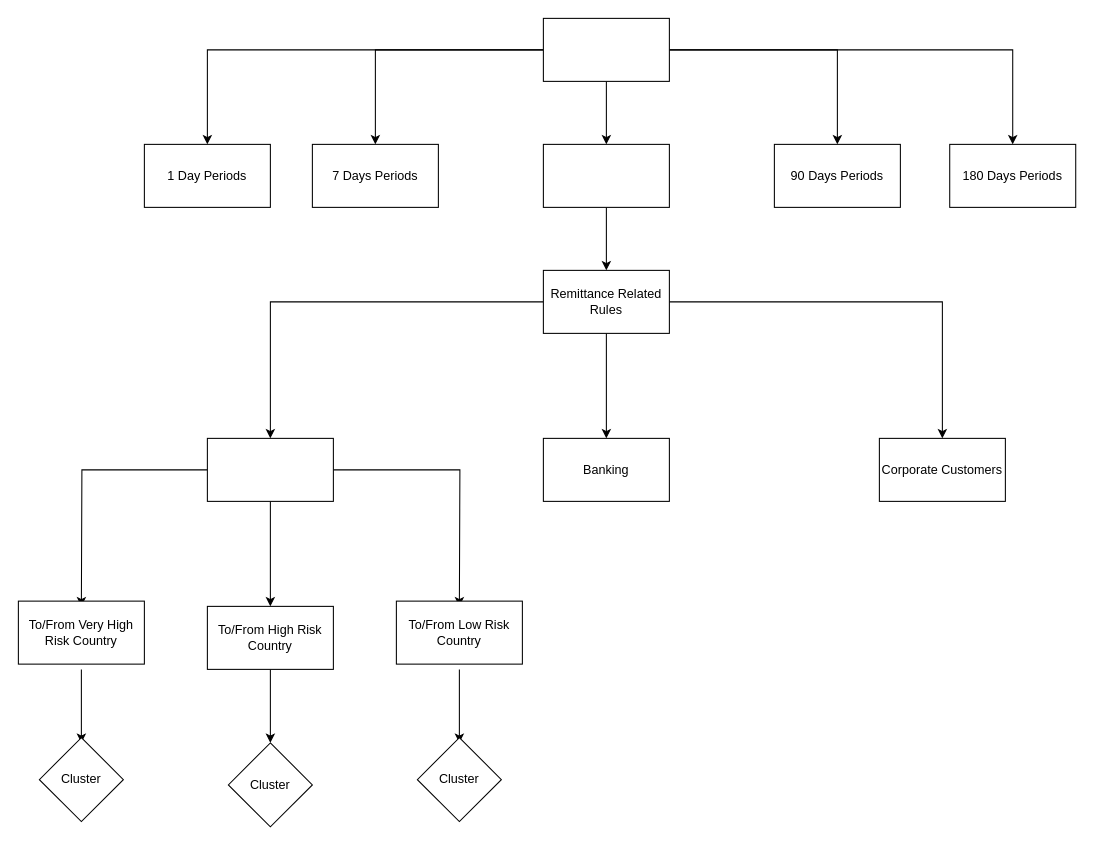
The diagram is 1094 pixels wide and 845 high, and some of its shapes have lost their labels. The shapes that lost their labels are listed below. From the top down, each one's centre as x and y in pixels, then its label:
At pixel 605 49: "Rules".
At pixel 605 175: "30 Days Periods".
At pixel 269 469: "Individual Customers".
